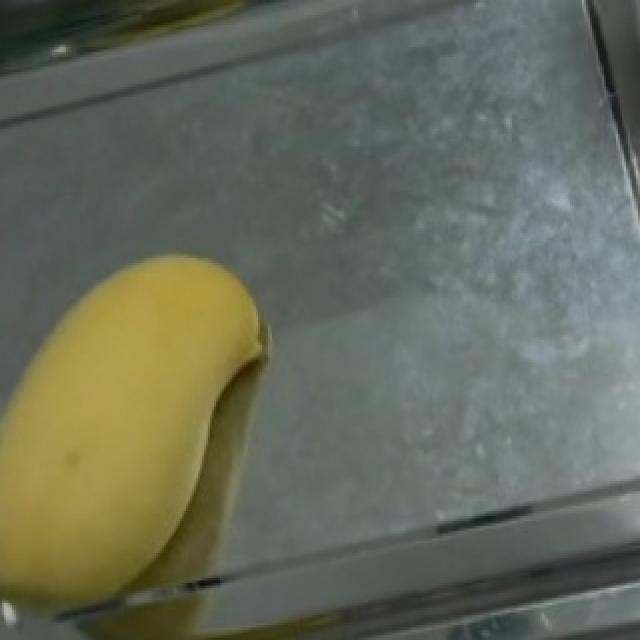fruit: (4, 203, 308, 578)
